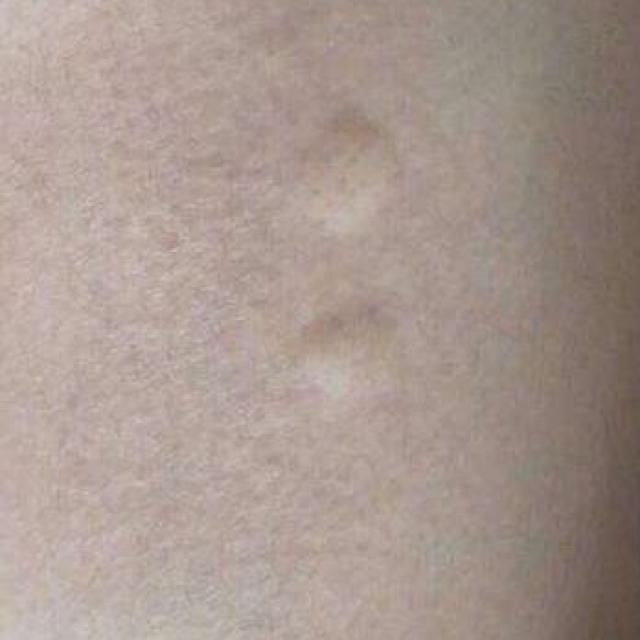sinek: (259, 99, 443, 257), (260, 281, 443, 424)
